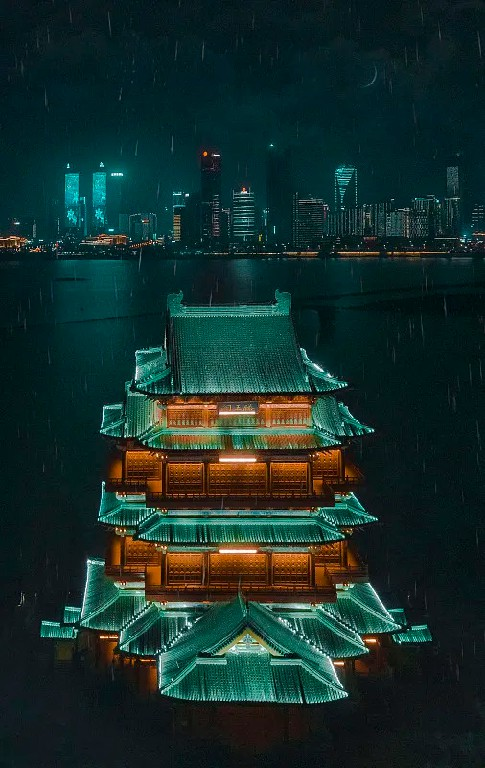Teng: (40, 290, 433, 704)
